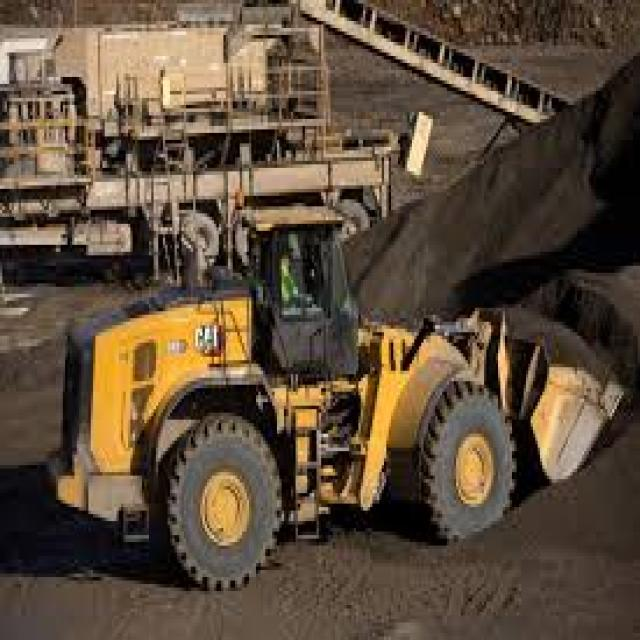buldozerpayloadergrader: (46, 189, 519, 591)
